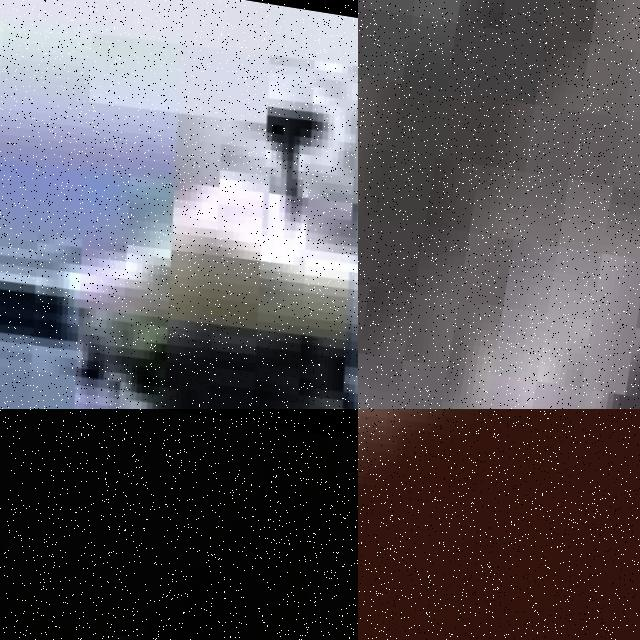drone: (0, 0, 358, 409), (358, 409, 640, 640)
